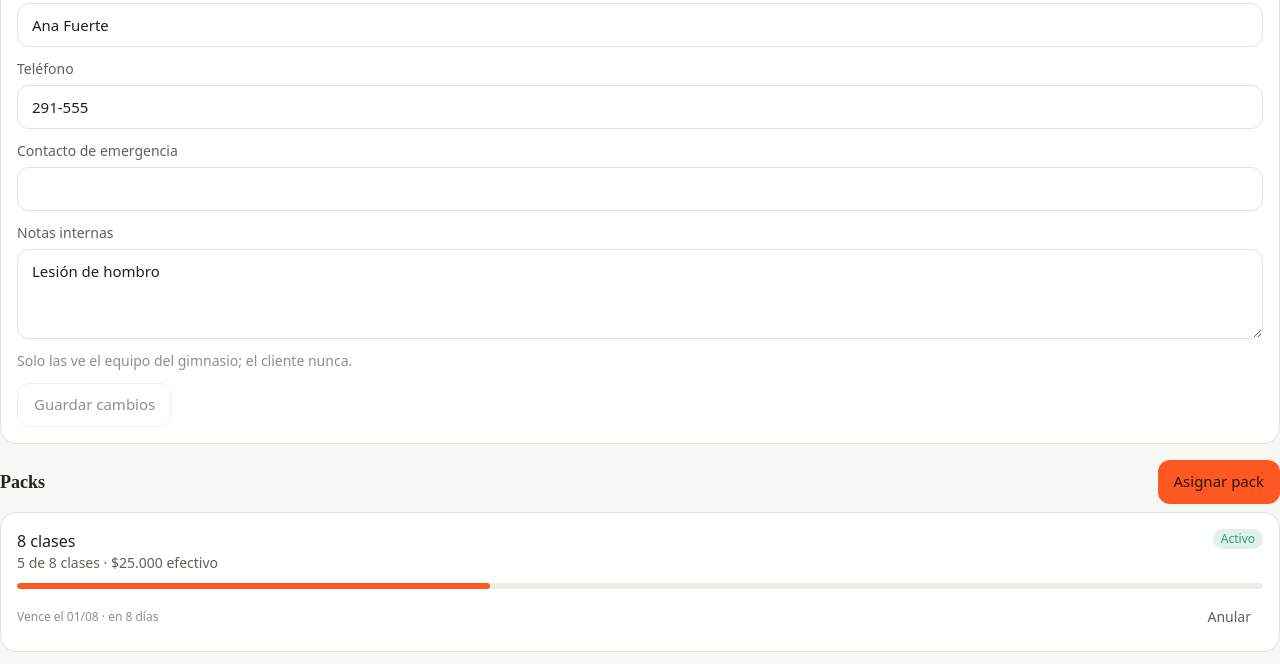
Test case: ClientDetail (F3-05) › anular una asignación exige motivo
(page scrolled)
Click the button "Anular" at (1229, 616), box [1196,598,1263,634]
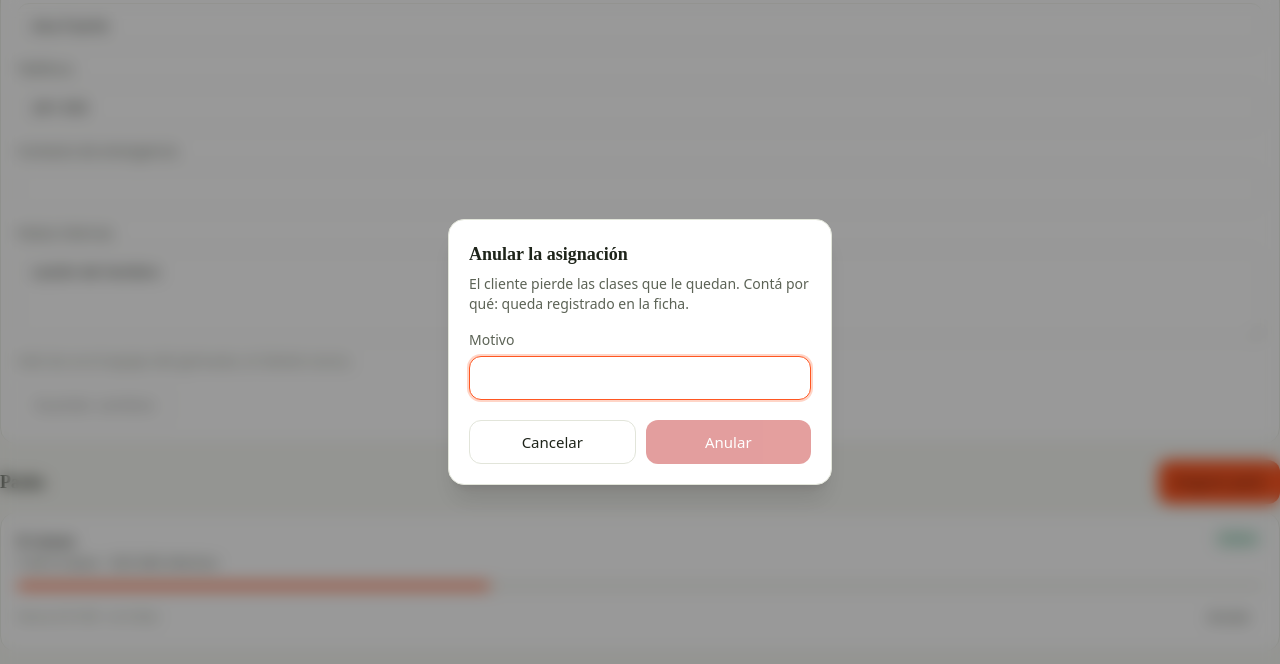
Expected: the button "Anular" is disabled, [646,420,811,464]
Type "Se mudó" into the field labelled "Motivo" at (640, 378), box [469,356,811,400]
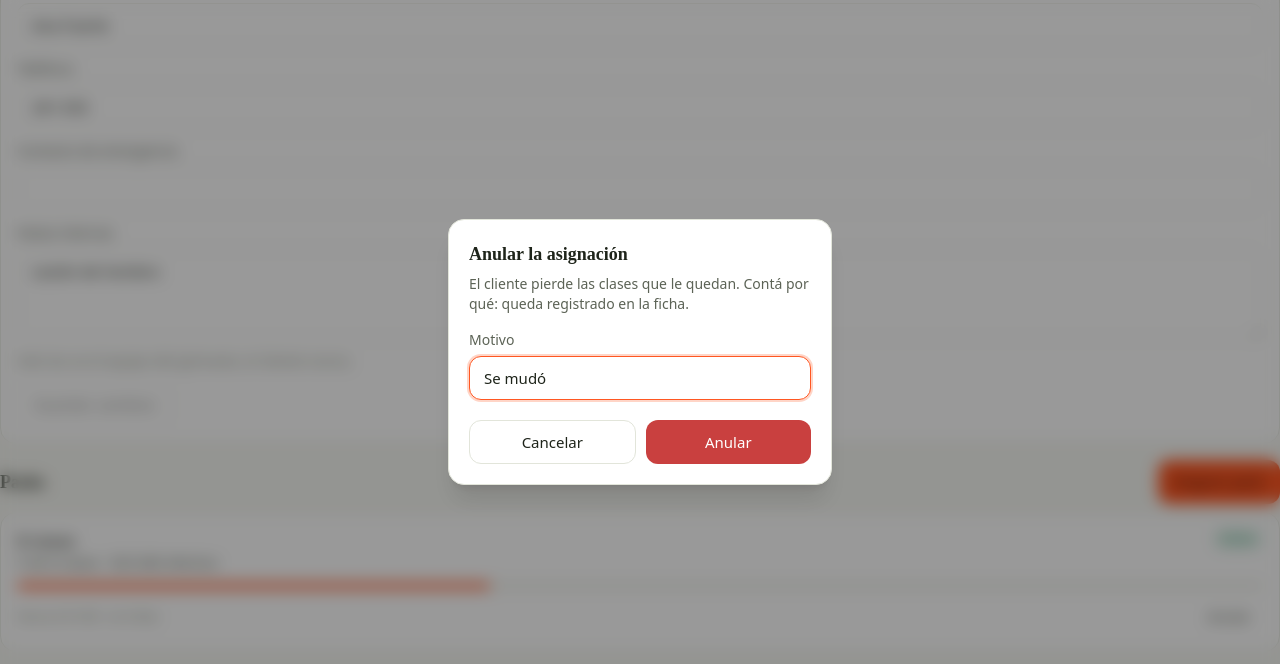
Click the button "Anular" at (728, 442), box [646,420,811,464]
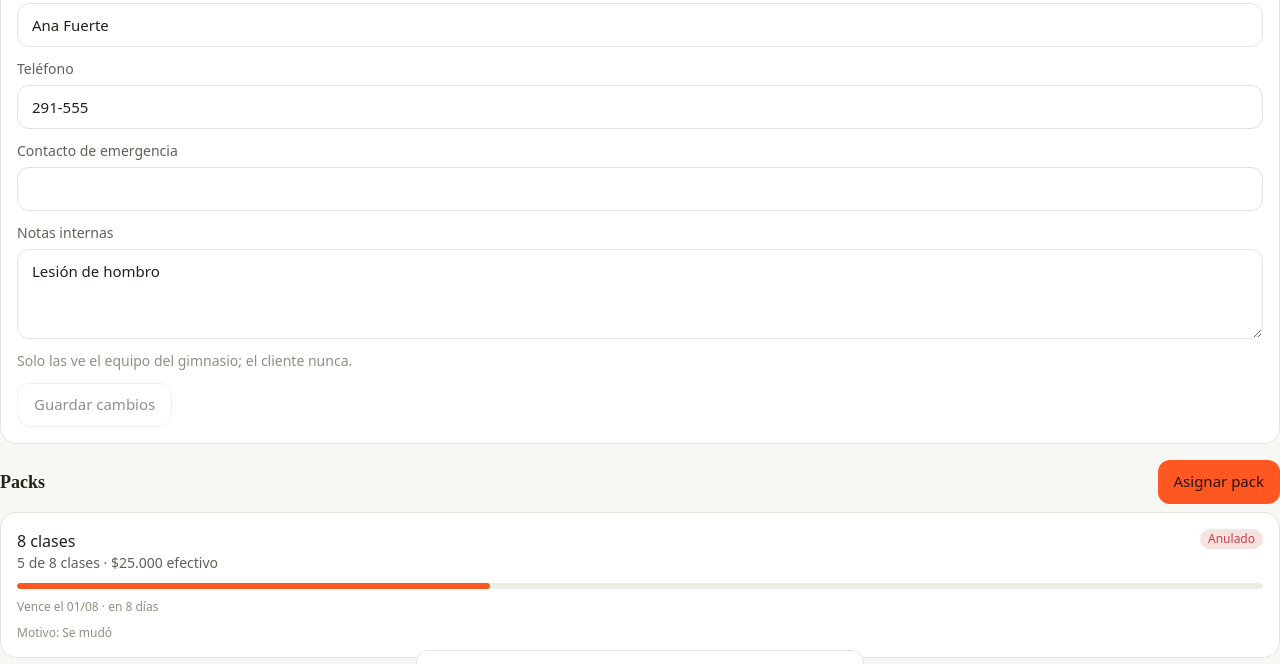
Expected: the text "Anulado" is shown, [1200,528,1263,548]
